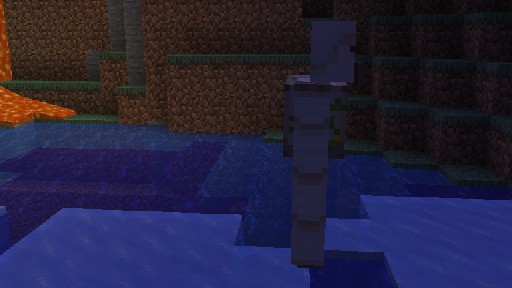iron_golem: (282, 19, 363, 269)
